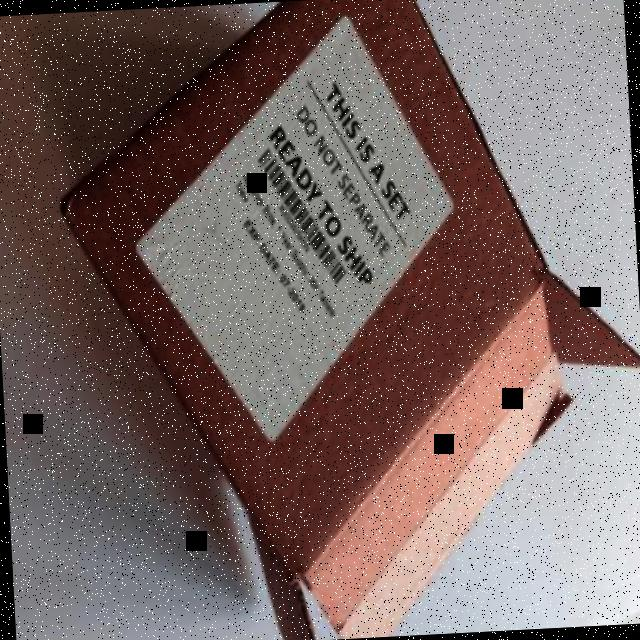cardboard_box: (31, 0, 632, 640)
